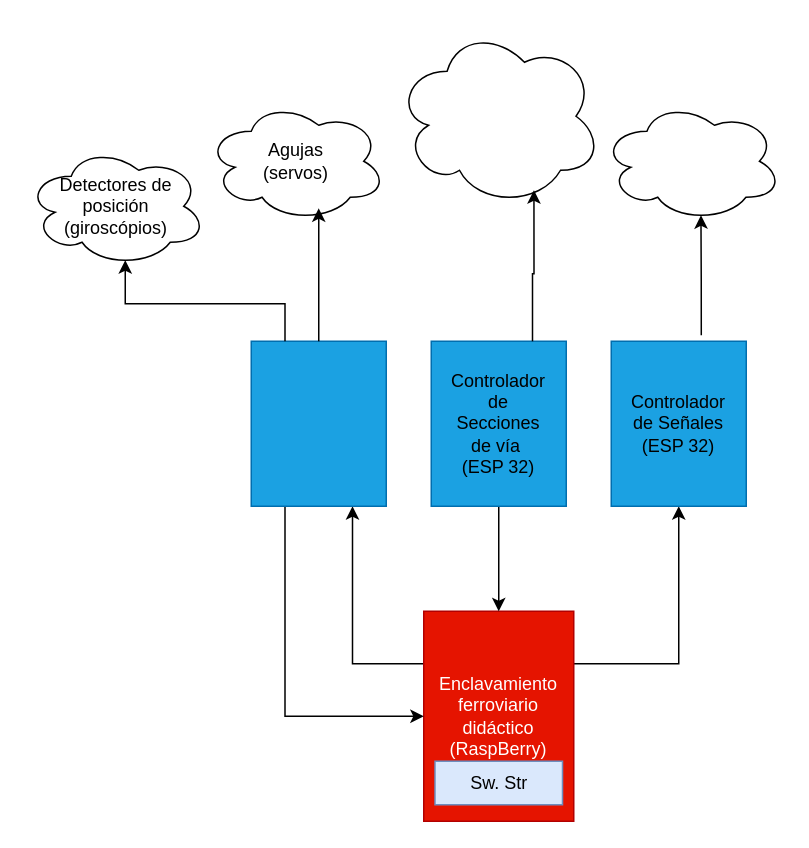
Image size: 809x848. Some labels were removed from this diagram. The shapes that lost their labels are listed below. From the top down, each one's centre as x and y in pixels, then its label:
At point (498, 115): "Dispositivos de Ocupación (sensores Inflarrojos)".
At point (691, 160): "Señales (leds)".
At point (318, 423): "Controlador de Agujas (ESP 32)".
